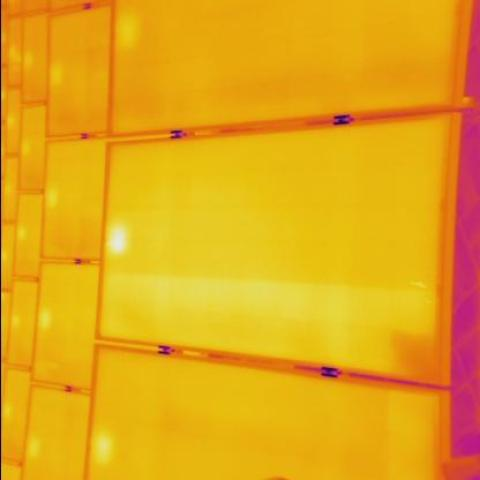fault: (108, 228, 130, 252)
